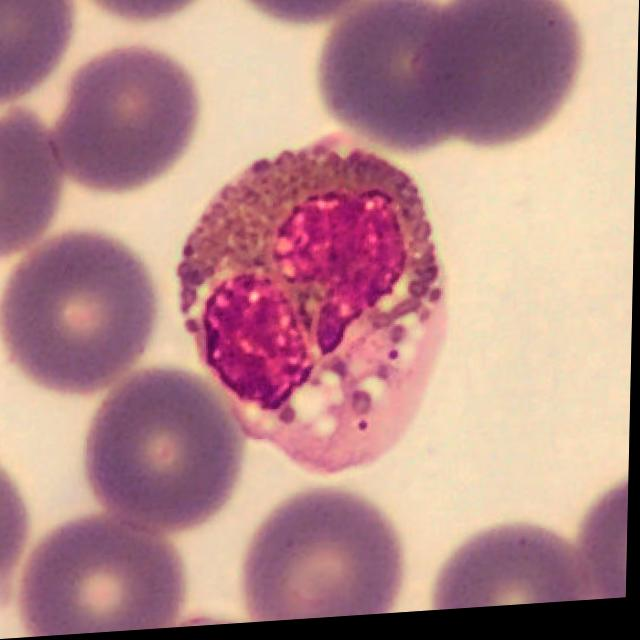Eosinofilo: (178, 141, 450, 482)
